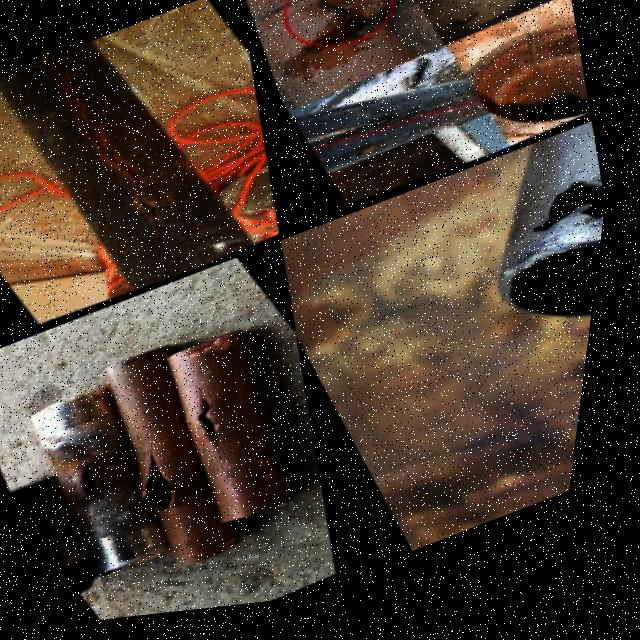crack: (40, 56, 173, 284), (309, 103, 473, 152), (194, 389, 234, 474), (312, 1, 371, 40), (519, 41, 553, 100)
hole: (508, 186, 617, 282), (594, 289, 607, 338)
rupture: (147, 451, 190, 525), (81, 463, 112, 512)
